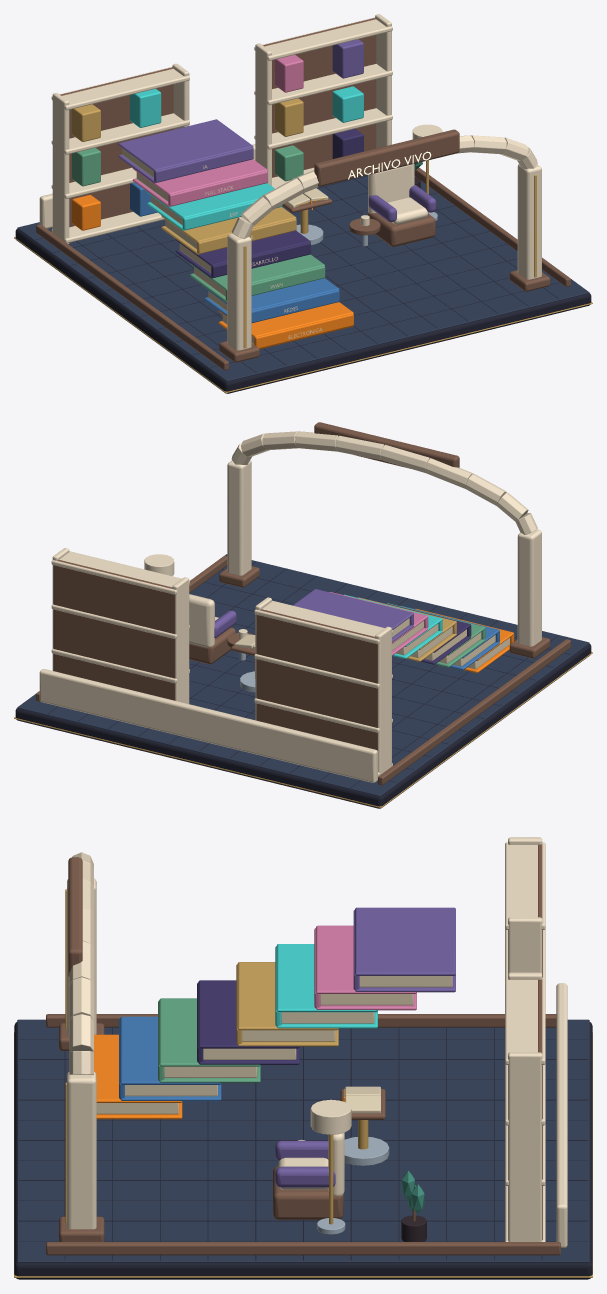
Rendered from library.glb.
The picture shows the model from 3 angles, top to bottom: view 1: azimuth 30°, elevation 25°; view 2: azimuth 150°, elevation 25°; view 3: azimuth 270°, elevation 25°; orthographic projection. The views are drawn at different scales.
Parts seen in each view (by area): view 1: Satin floor.002, Foundation.002, East_Back, Book_07_CoverTop, West_Back, Library_ArchNameplate, Library_ArchPillar, West_Pillar, Library_ArchPillar.001, Library_Left_PlatformEdge, East_Shelf_03, West_Shelf_03 (+45 smaller); view 2: Satin floor.002, East_Back, West_Back, Library_Back_Dado, Foundation.002, Library_ArchPillar, Library_ArchPillar.001, Library_Left_PlatformEdge, Book_07_CoverTop, East_Shelf_03, West_Shelf_03, West_Pillar (+20 smaller); view 3: Satin floor.002, Foundation.002, Library_Right_PlatformEdge, Book_07_CoverTop, East_Pillar.001, Library_ArchPillar.001, Library_Back_Dado, Book_03_CoverTop, Book_04_CoverTop, Book_05_CoverTop, East_Shelf_03, West_Shelf_03 (+38 smaller).
Part boxes in pixels (left/top/right/bottom): Satin floor.002: left=17, top=175, right=589, bottom=381; Foundation.002: left=15, top=228, right=591, bottom=393; East_Back: left=263, top=18, right=376, bottom=177; Book_07_CoverTop: left=118, top=119, right=253, bottom=171; West_Back: left=60, top=67, right=173, bottom=227; Library_ArchNameplate: left=314, top=129, right=459, bottom=186; Library_ArchPillar: left=227, top=233, right=251, bottom=350; West_Pillar: left=52, top=93, right=69, bottom=243; Library_ArchPillar.001: left=517, top=164, right=541, bottom=279; Library_Left_PlatformEdge: left=36, top=224, right=228, bottom=370; East_Shelf_03: left=254, top=17, right=392, bottom=60; West_Shelf_03: left=51, top=67, right=189, bottom=110; Satin floor.002: left=17, top=554, right=589, bottom=796; East_Back: left=53, top=560, right=175, bottom=700; West_Back: left=256, top=609, right=377, bottom=751; Library_Back_Dado: left=39, top=669, right=377, bottom=782; Foundation.002: left=15, top=643, right=591, bottom=808; Library_ArchPillar: left=517, top=529, right=541, bottom=646; Library_ArchPillar.001: left=227, top=460, right=251, bottom=575; Library_Left_PlatformEdge: left=378, top=639, right=570, bottom=785; Book_07_CoverTop: left=293, top=589, right=413, bottom=629; East_Shelf_03: left=51, top=551, right=189, bottom=594; West_Shelf_03: left=254, top=600, right=392, bottom=644; West_Pillar: left=375, top=626, right=391, bottom=774; Satin floor.002: left=17, top=1019, right=589, bottom=1262; Foundation.002: left=14, top=1022, right=592, bottom=1279; Library_Right_PlatformEdge: left=46, top=1242, right=560, bottom=1255; Book_07_CoverTop: left=355, top=907, right=455, bottom=975; East_Pillar.001: left=508, top=1052, right=542, bottom=1241; Library_ArchPillar.001: left=67, top=1071, right=96, bottom=1229; Library_Back_Dado: left=556, top=983, right=567, bottom=1247; Book_03_CoverTop: left=198, top=980, right=299, bottom=1048; Book_04_CoverTop: left=237, top=962, right=338, bottom=1030; Book_05_CoverTop: left=276, top=944, right=377, bottom=1012; East_Shelf_03: left=505, top=977, right=545, bottom=1064; West_Shelf_03: left=505, top=842, right=545, bottom=929.
Size of the model in its own units: 12.14 by 5.91 by 12.14.
